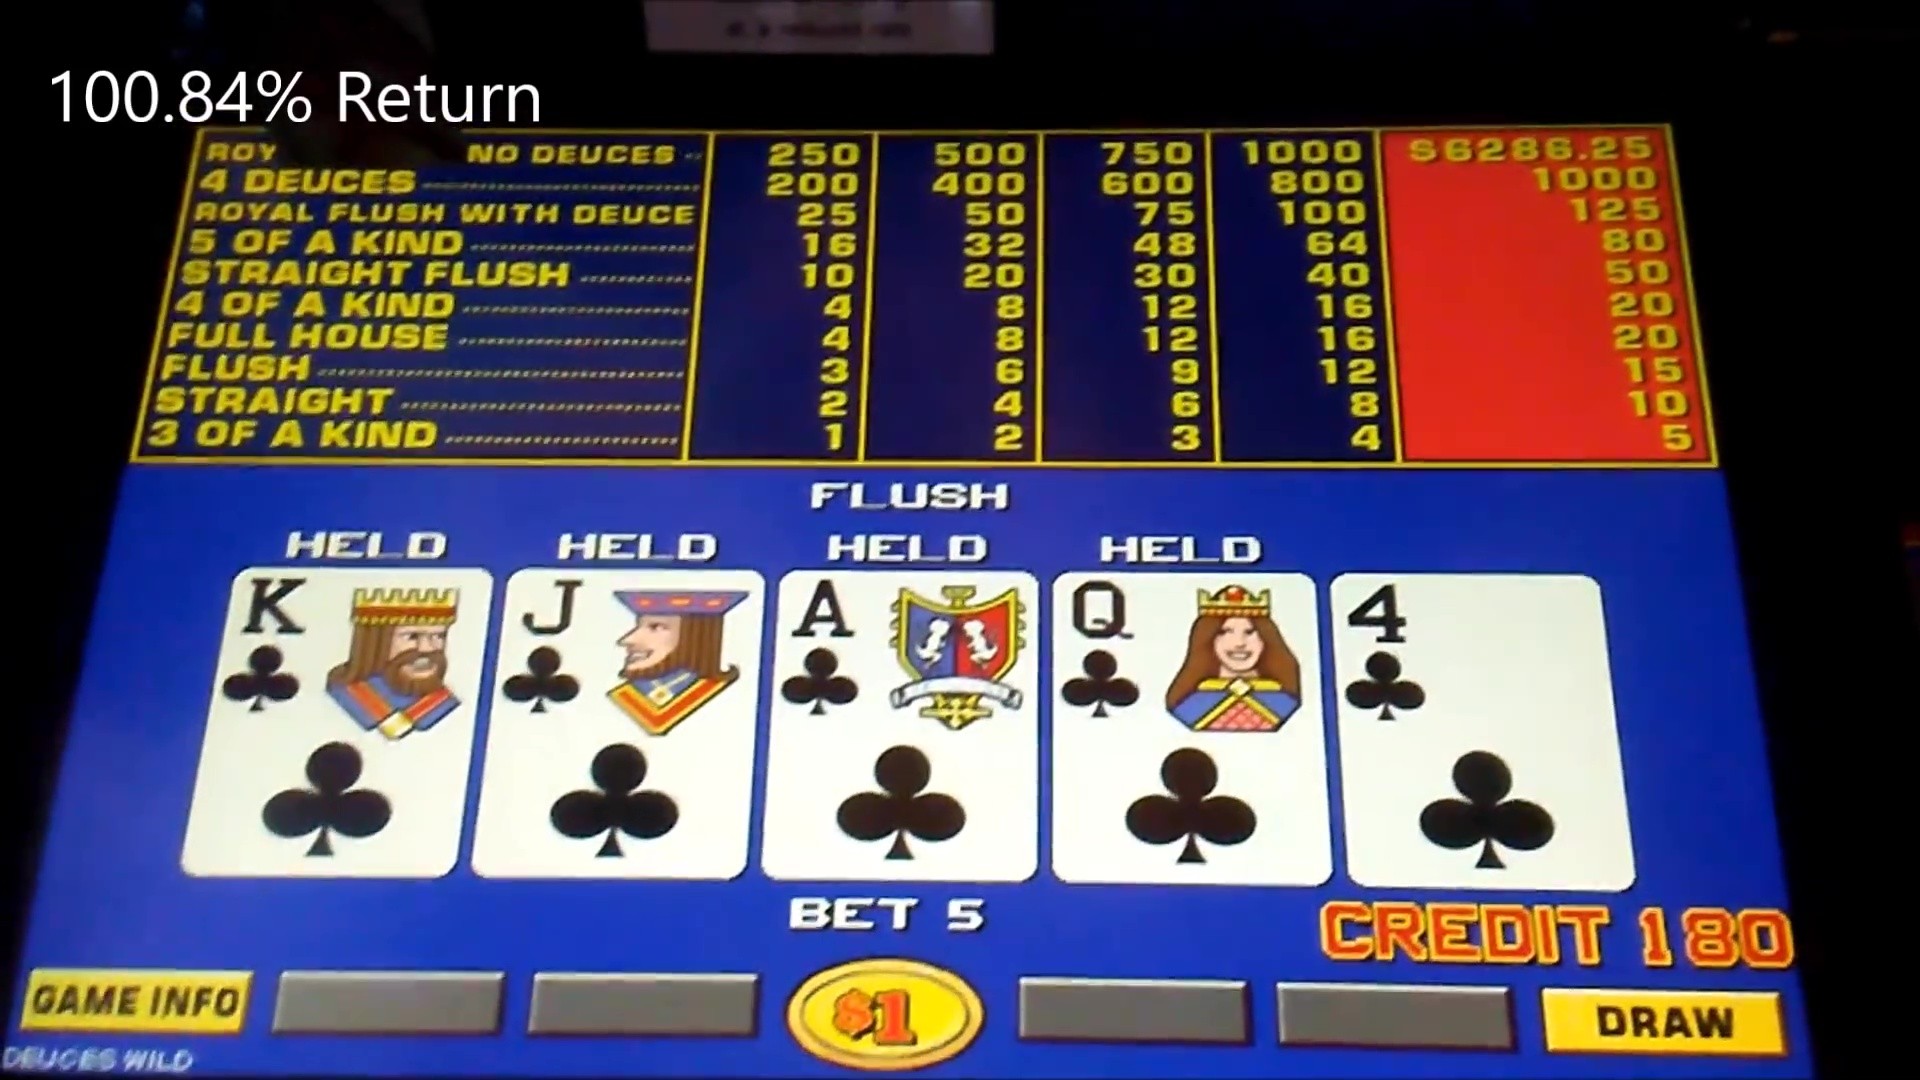C4: (1337, 575, 1626, 731)
CA: (785, 571, 1044, 728)
CJ: (496, 570, 738, 724)
CK: (225, 566, 472, 719)
CQ: (1054, 568, 1321, 725)
